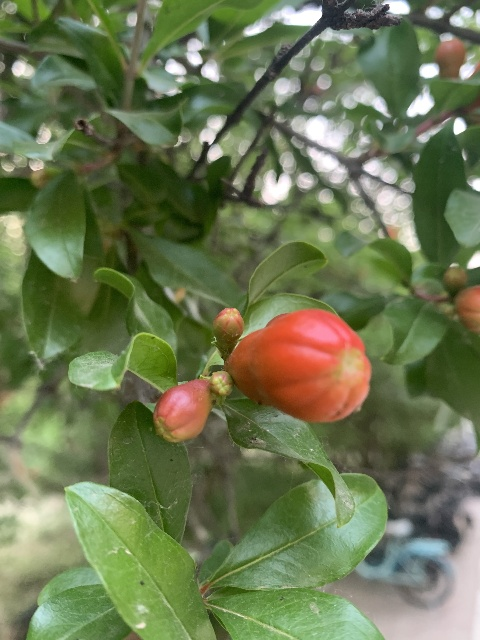bud: (225, 308, 371, 423), (153, 379, 212, 443), (433, 38, 466, 78), (212, 306, 243, 348)
